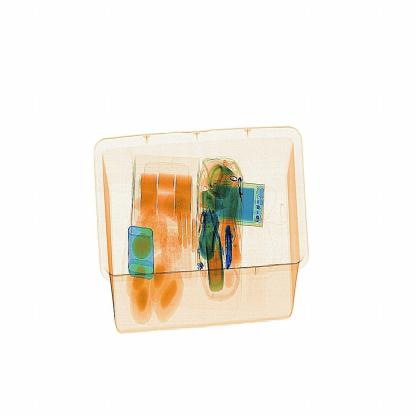knife: (224, 221, 246, 278)
